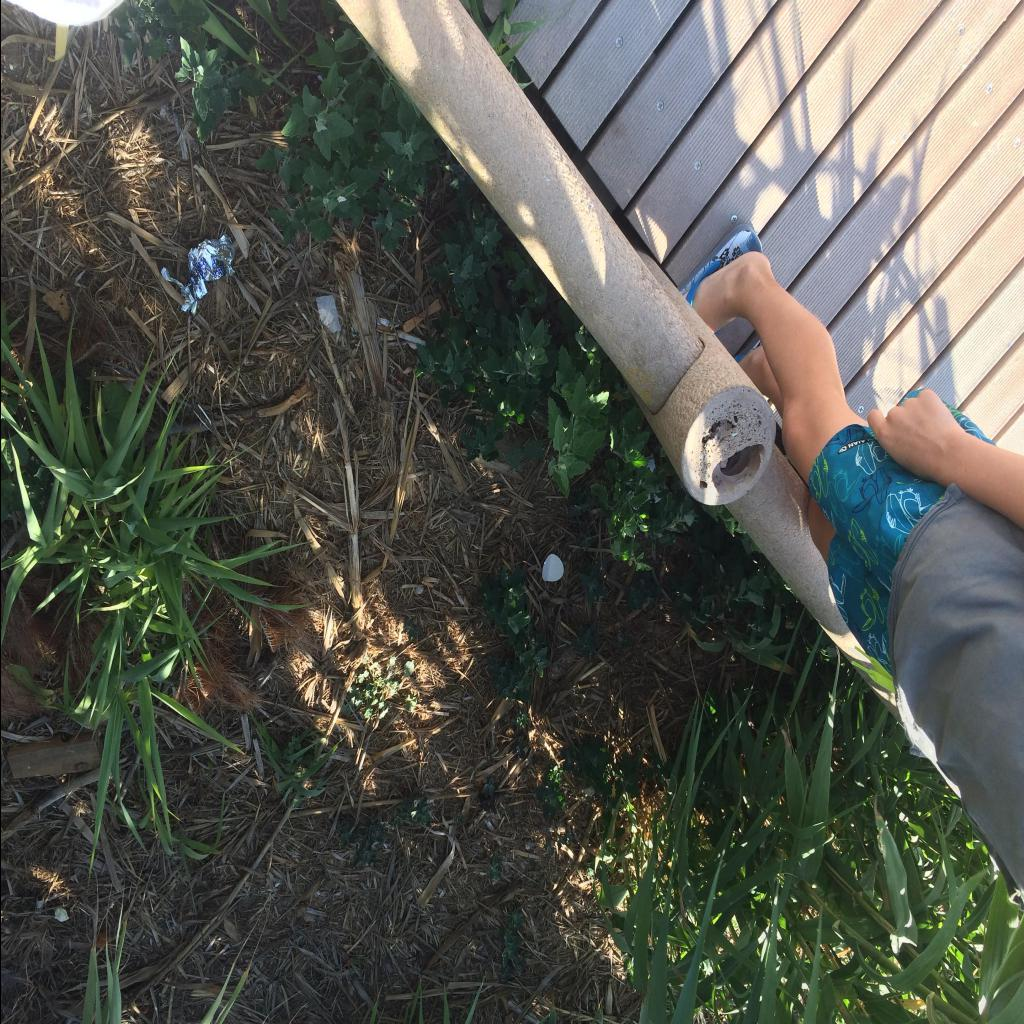Other plastic: (160, 234, 236, 314)
Plastic film: (314, 296, 340, 334)
Unlabeled litter: (541, 554, 563, 582)
